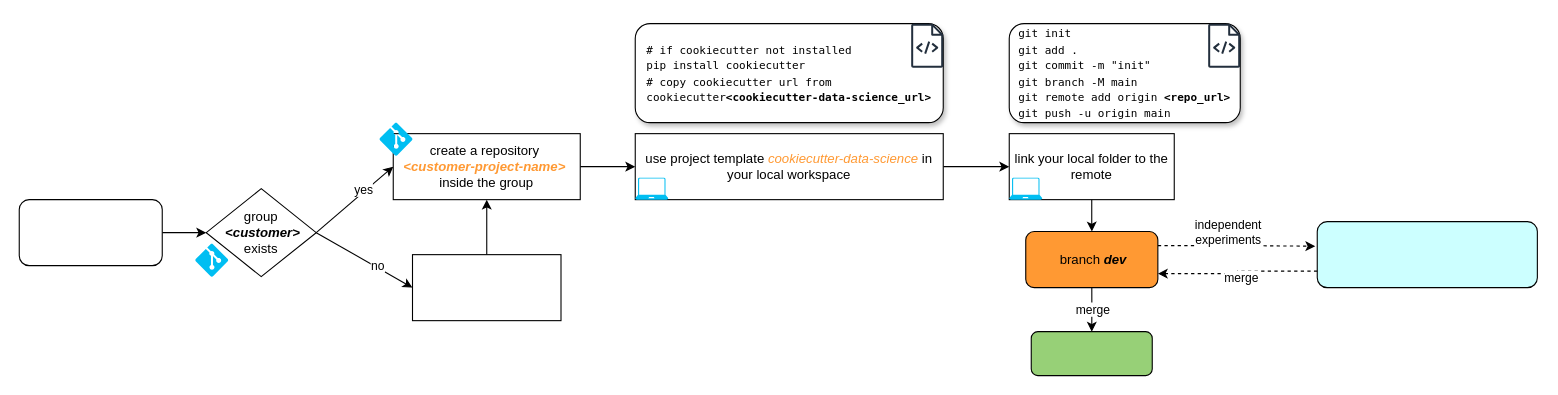
This 1558x395 diagram has some shape labels left out. Here are the shapes that lost their labels. From the top down, the centre of each, then its label:
(x=90, y=232): New <project> with a <customer> lambda
(x=1426, y=254): create branch feature/<reference> (if new feat) / bugfix<reference> (if bugfix)
(x=486, y=287): Ask your manager
(x=1091, y=353): branch main
